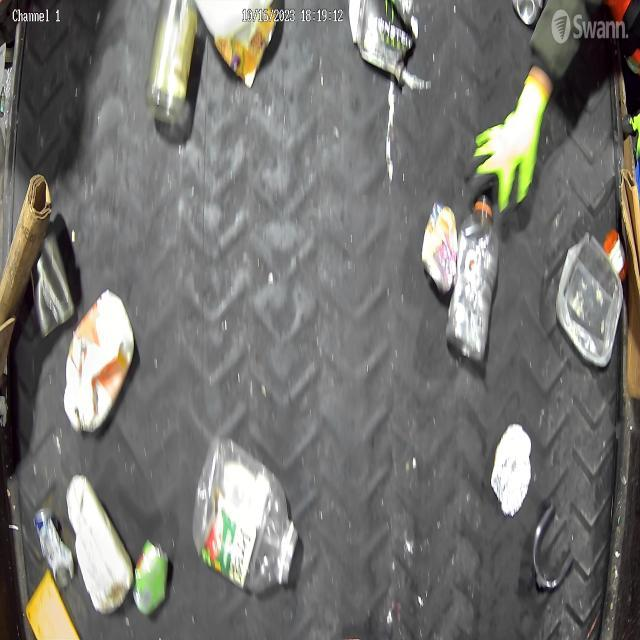can: (421, 200, 459, 298), (34, 506, 74, 584), (132, 536, 170, 616), (512, 0, 541, 28)
non_white_jug: (63, 286, 135, 434)
plastic_bottle: (191, 434, 301, 592), (448, 196, 498, 367)
